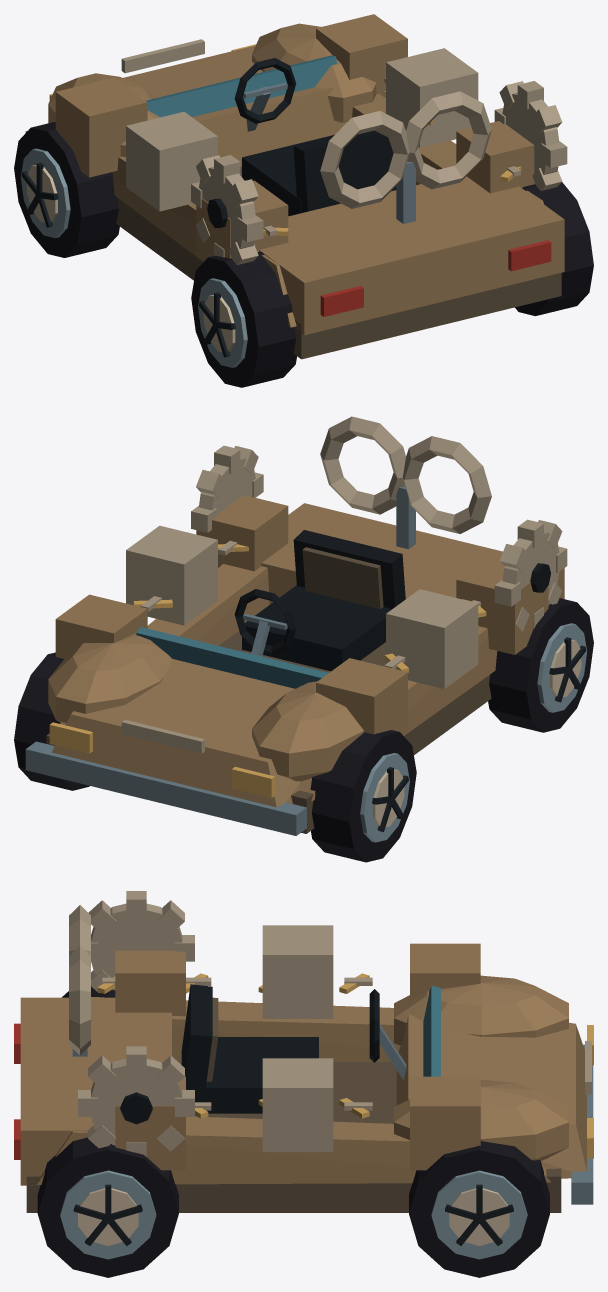
The model's file is kart.glb.
The picture shows the model from 3 angles, top to bottom: view 1: azimuth 30°, elevation 25°; view 2: azimuth 150°, elevation 25°; view 3: azimuth 270°, elevation 25°; orthographic projection. The views are drawn at different scales.
Parts seen in each view (by area): view 1: identity-toy-car-toy-rounded-body-and-wind-up-key, identity-toy-car-motif-blocks, wheel-rear-left, wheel-front-left, identity-toy-car-motif-gears, identity-toy-car-driver-cockpit, wheel-rear-right, identity-toy-car-motif-suture; view 2: identity-toy-car-toy-rounded-body-and-wind-up-key, identity-toy-car-motif-blocks, identity-toy-car-driver-cockpit, wheel-front-left, wheel-rear-left, identity-toy-car-motif-gears, wheel-front-right, identity-toy-car-motif-suture; view 3: identity-toy-car-toy-rounded-body-and-wind-up-key, identity-toy-car-motif-blocks, wheel-rear-right, wheel-front-right, identity-toy-car-motif-gears, identity-toy-car-driver-cockpit, identity-toy-car-motif-suture.
Part boxes in pixels (x1,y1,x2,y2): identity-toy-car-toy-rounded-body-and-wind-up-key: [25, 23, 564, 359]; identity-toy-car-motif-blocks: [55, 14, 535, 261]; wheel-rear-left: [191, 252, 296, 387]; wheel-front-left: [14, 122, 119, 257]; identity-toy-car-motif-gears: [191, 81, 567, 264]; identity-toy-car-driver-cockpit: [234, 58, 396, 215]; wheel-rear-right: [515, 182, 593, 316]; identity-toy-car-motif-suture: [263, 77, 521, 236]; identity-toy-car-toy-rounded-body-and-wind-up-key: [25, 416, 564, 835]; identity-toy-car-motif-blocks: [55, 495, 548, 735]; identity-toy-car-driver-cockpit: [234, 530, 405, 671]; wheel-front-left: [310, 730, 416, 862]; wheel-rear-left: [488, 598, 593, 732]; identity-toy-car-motif-gears: [191, 445, 567, 631]; wheel-front-right: [14, 652, 89, 790]; identity-toy-car-motif-suture: [133, 540, 486, 672]; identity-toy-car-toy-rounded-body-and-wind-up-key: [14, 905, 593, 1212]; identity-toy-car-motif-blocks: [115, 925, 480, 1170]; wheel-rear-right: [37, 1137, 178, 1277]; wheel-front-right: [409, 1141, 549, 1277]; identity-toy-car-motif-gears: [78, 891, 194, 1156]; identity-toy-car-driver-cockpit: [181, 984, 406, 1113]; identity-toy-car-motif-suture: [97, 973, 372, 1118].
Size of the model in its own units: 2.13 by 1.42 by 2.88.
